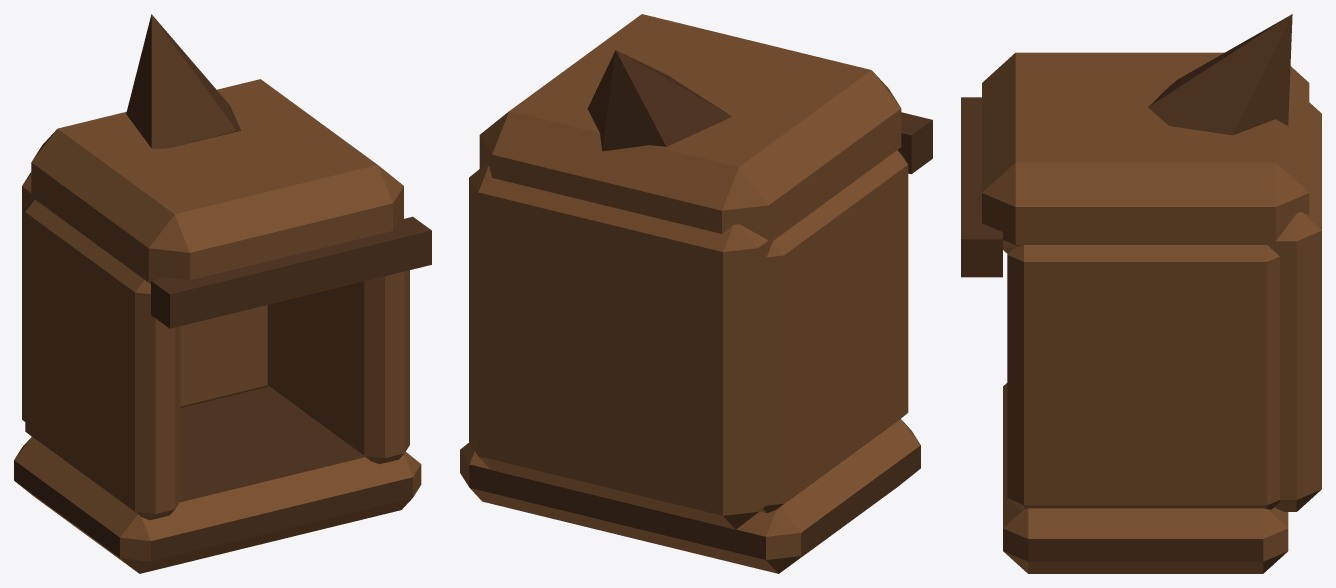
Rendered from leather_hood.glb.
3 renders of one model, left to right at view 1: azimuth 30°, elevation 25°; view 2: azimuth 150°, elevation 25°; view 3: azimuth 270°, elevation 25°, orthographic. The views are drawn at different scales.
Parts seen in each view (by area): view 1: leather_hood; view 2: leather_hood; view 3: leather_hood.
Boxes of the visible parts, <box> form: leather_hood: <box>14,14,431,573</box>; leather_hood: <box>460,14,932,573</box>; leather_hood: <box>961,14,1321,573</box>.
Size of the model in its own units: 0.46 by 0.6429 by 0.43.
